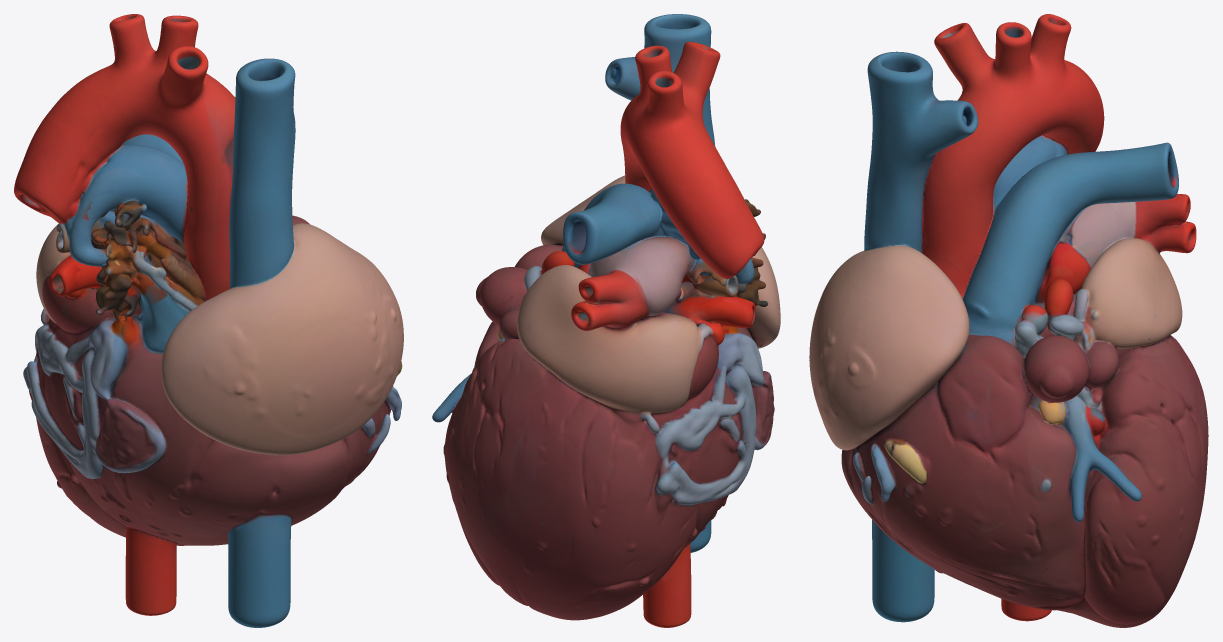
The model's file is organ.glb.
The picture shows the model from 3 angles, left to right: view 1: azimuth 30°, elevation 25°; view 2: azimuth 150°, elevation 25°; view 3: azimuth 270°, elevation 25°; orthographic projection. The views are drawn at different scales.
Parts seen in each view (by area): view 1: tripo_node_56e16f36-39ae-478a-b9c2-aa5d5782c0c8; view 2: tripo_node_56e16f36-39ae-478a-b9c2-aa5d5782c0c8; view 3: tripo_node_56e16f36-39ae-478a-b9c2-aa5d5782c0c8.
Boxes of the visible parts, <box> form: tripo_node_56e16f36-39ae-478a-b9c2-aa5d5782c0c8: <box>14,14,403,627</box>; tripo_node_56e16f36-39ae-478a-b9c2-aa5d5782c0c8: <box>432,14,780,627</box>; tripo_node_56e16f36-39ae-478a-b9c2-aa5d5782c0c8: <box>809,14,1208,627</box>.
Size of the model in its own units: 0.5566 by 1 by 0.6055.
Materials: 1 (1 with a texture image).
